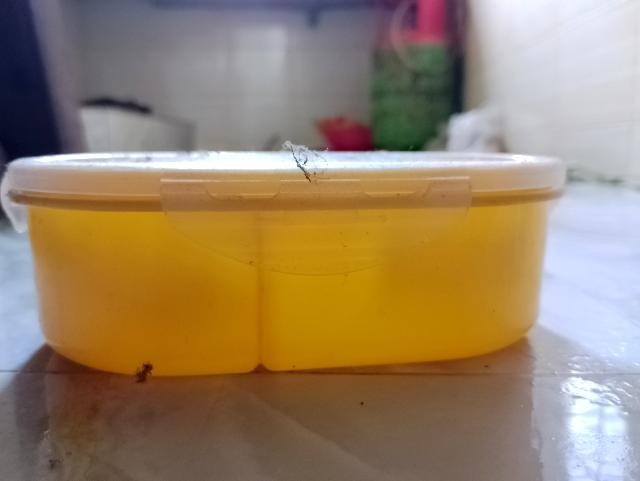hardplastic: (5, 126, 560, 386)
